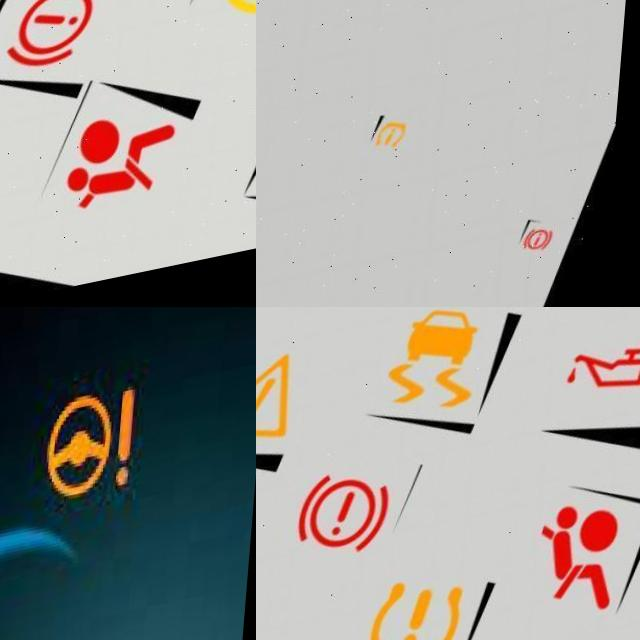Electronic Power Steering: (41, 393, 154, 540)
